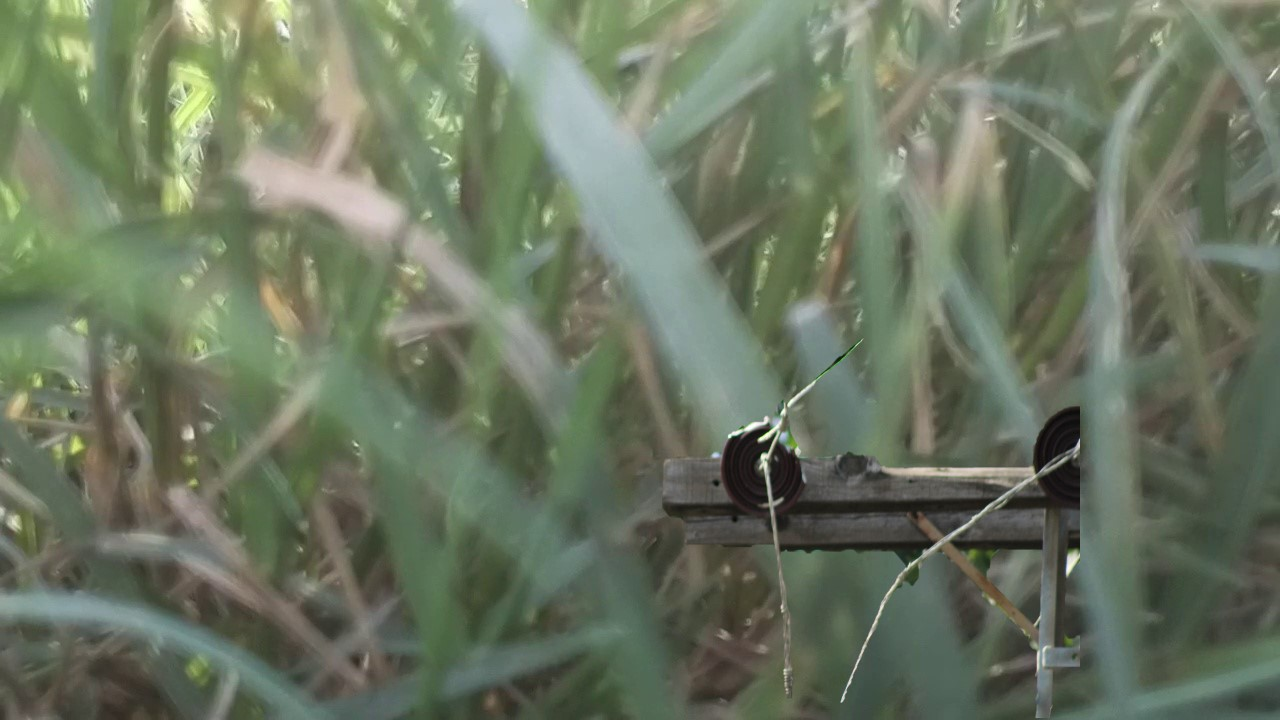defect_disc: (720, 413, 810, 520)
